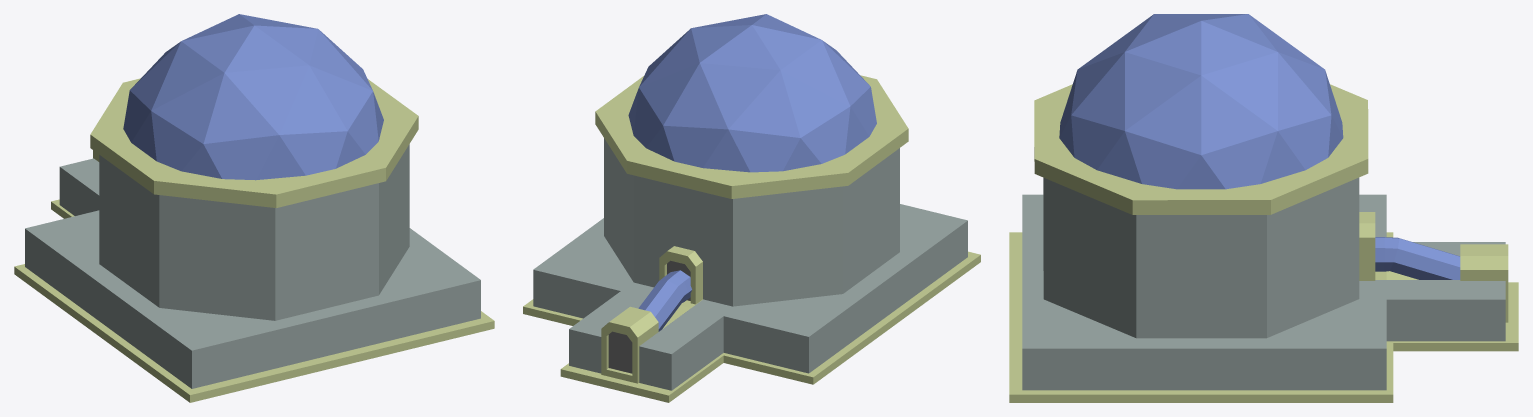
The model's file is centre commercial.fbx.
3 renders of one model, left to right at view 1: azimuth 30°, elevation 25°; view 2: azimuth 150°, elevation 25°; view 3: azimuth 270°, elevation 25°, orthographic. The views are drawn at different scales.
Parts seen in each view (by area): view 1: Cylinder, Cube, Icosphere; view 2: Cylinder, Cube, Icosphere, Cube.002, Cylinder.001, Cube.001; view 3: Cylinder, Cube, Icosphere, Cylinder.001, Cube.002, Cube.001.
Boxes of the visible parts, <box> form: Cylinder: <box>90,78,418,320</box>; Cube: <box>14,158,494,402</box>; Icosphere: <box>123,14,383,180</box>; Cylinder: <box>595,75,908,306</box>; Cube: <box>523,204,980,402</box>; Icosphere: <box>628,14,876,172</box>; Cube.002: <box>601,306,658,383</box>; Cylinder.001: <box>638,270,691,331</box>; Cube.001: <box>659,246,702,304</box>; Cylinder: <box>1034,84,1368,338</box>; Cube: <box>1009,194,1518,402</box>; Icosphere: <box>1059,14,1343,189</box>; Cylinder.001: <box>1375,237,1460,279</box>; Cube.002: <box>1460,244,1508,322</box>; Cube.001: <box>1359,212,1375,280</box>.
Size of the model in its own units: 744 by 644 by 987.
